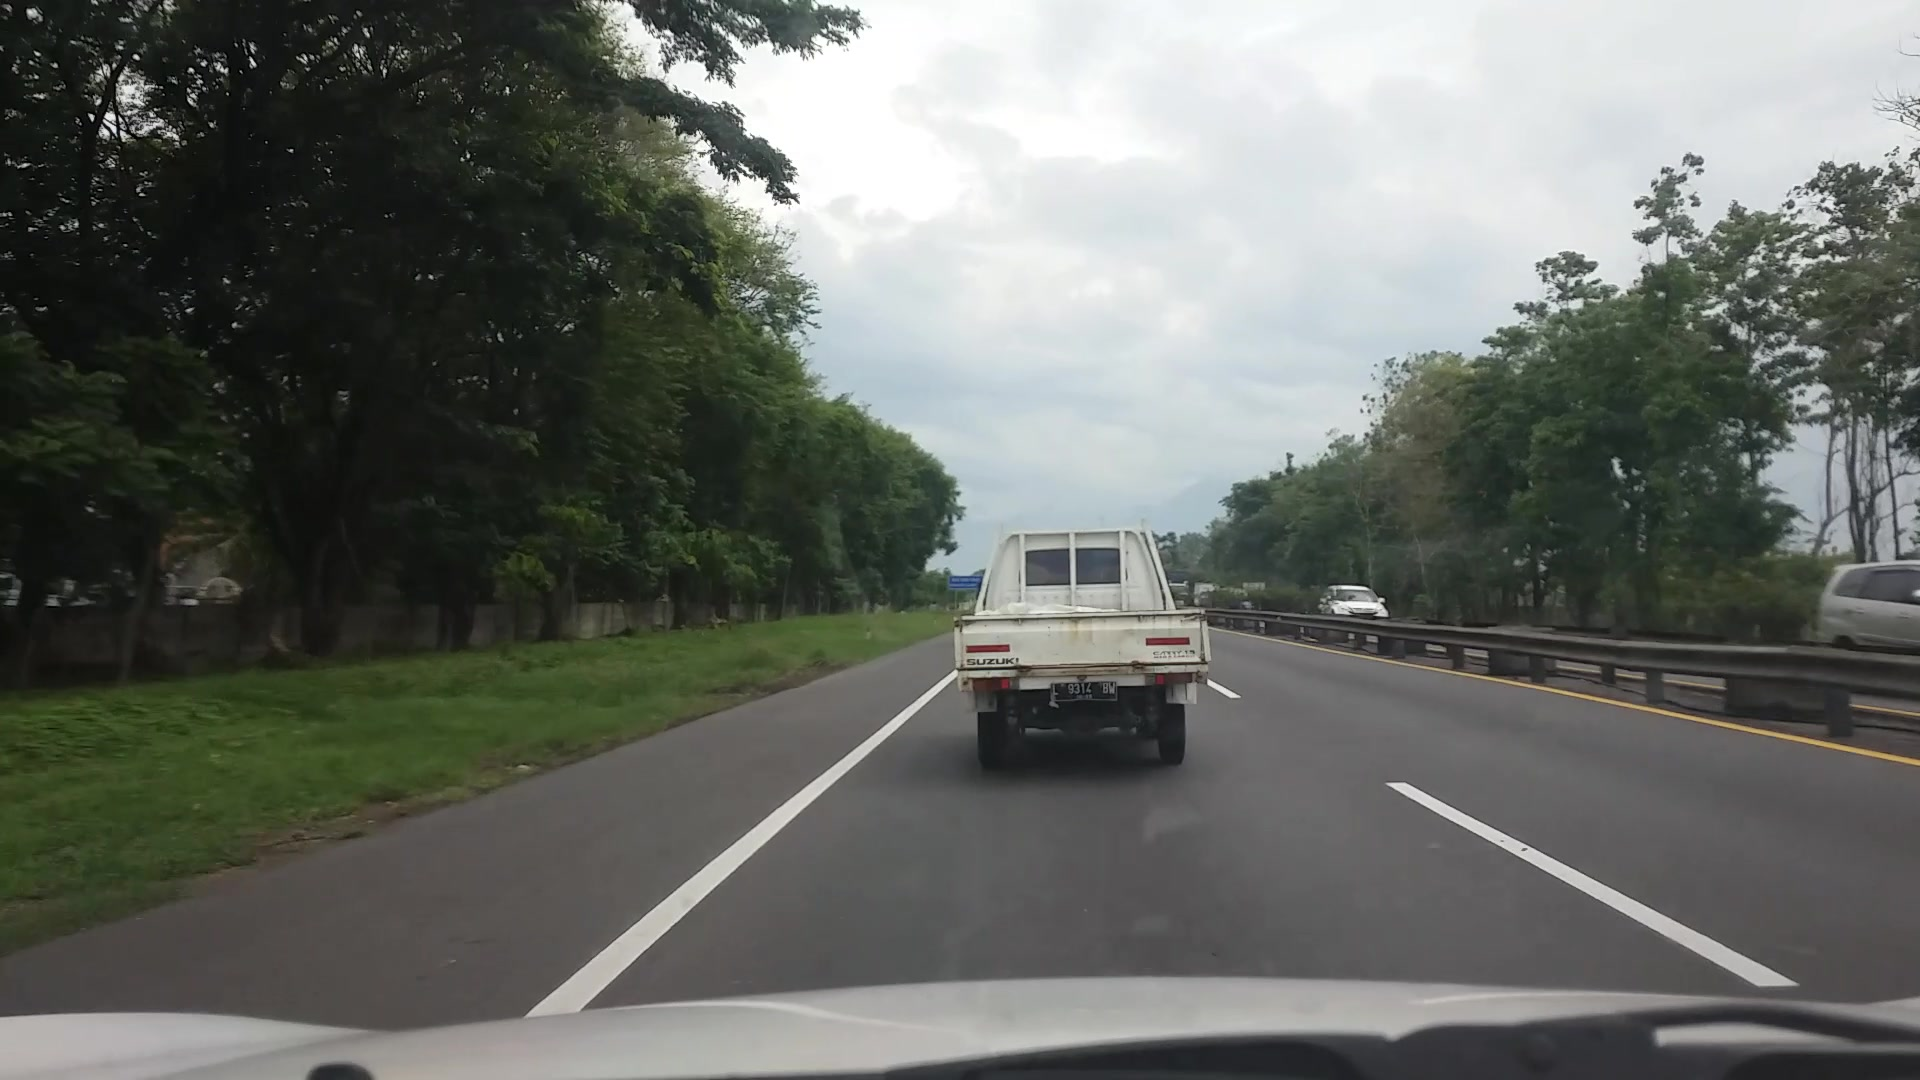plate_positive: (1050, 680, 1117, 703)
